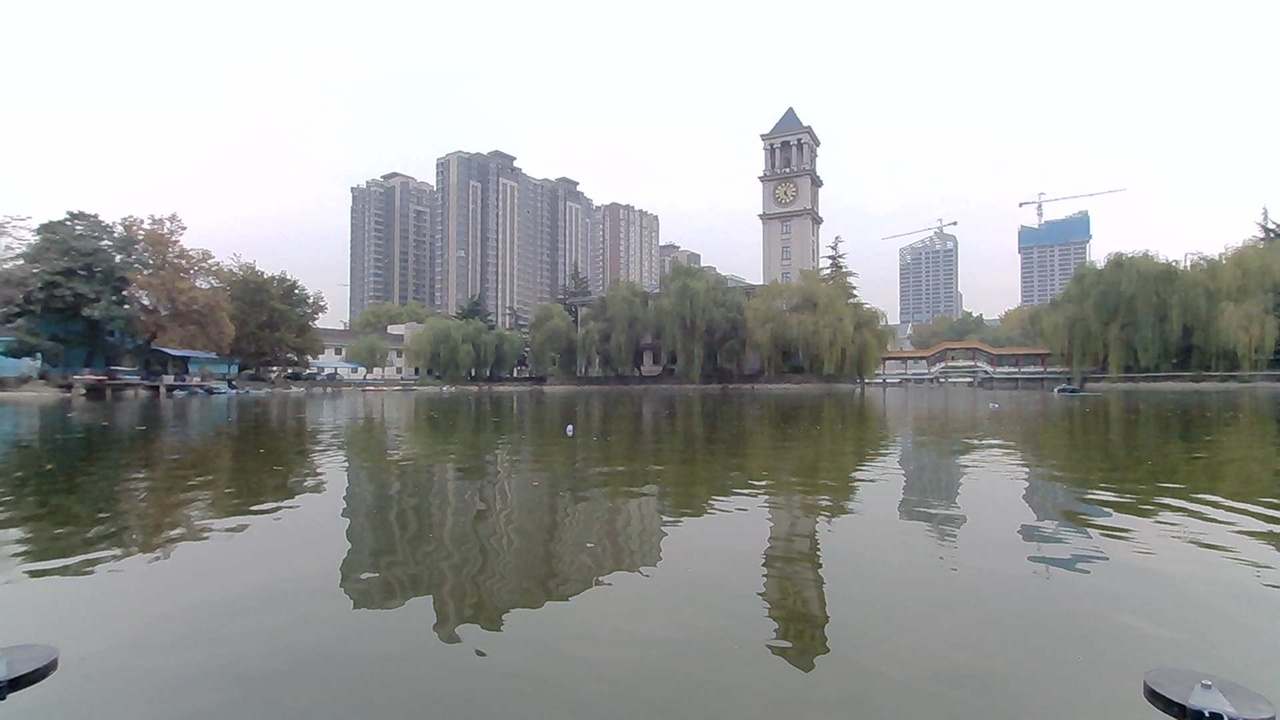bottle: (539, 410, 591, 442), (981, 396, 1013, 415)
